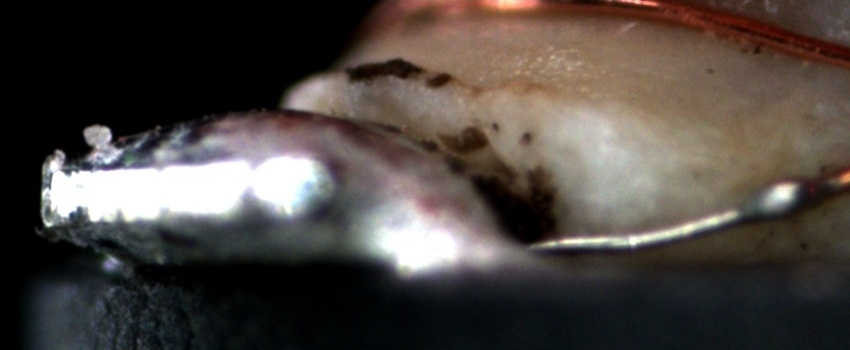TB: (744, 173, 826, 221)
TS: (526, 178, 845, 249)
TTCW: (525, 166, 848, 254)
